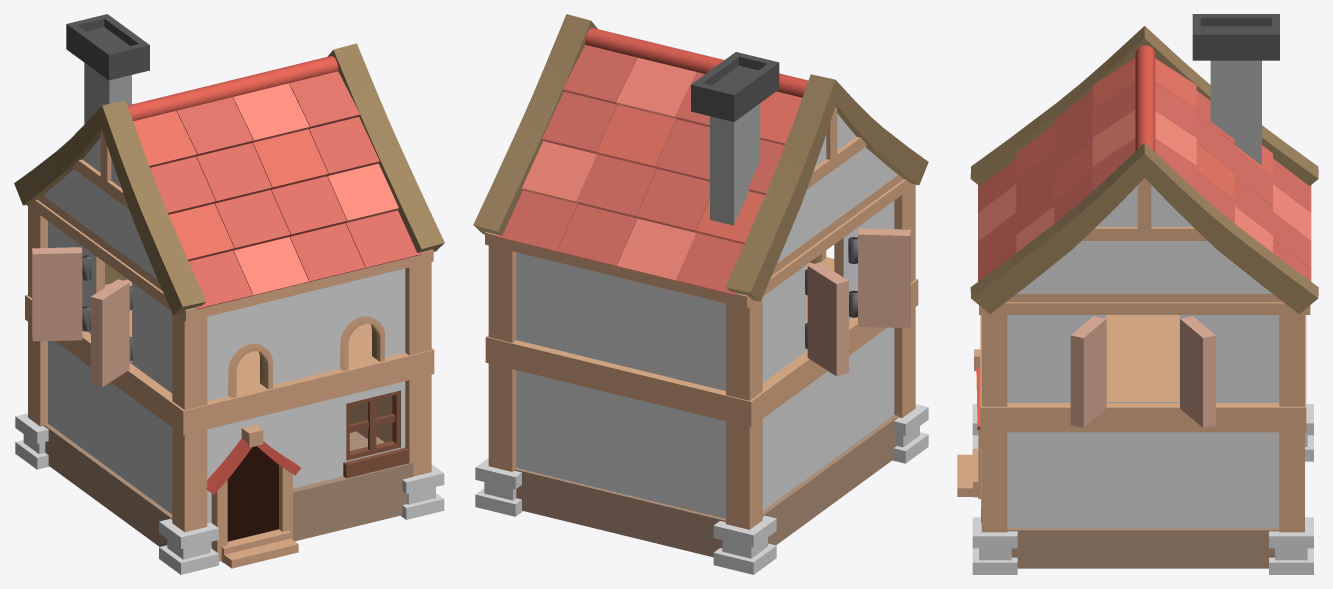
File: 마을집1그룹.fbx
The picture shows the model from 3 angles, left to right: view 1: azimuth 30°, elevation 25°; view 2: azimuth 150°, elevation 25°; view 3: azimuth 270°, elevation 25°; orthographic projection. The views are drawn at different scales.
Parts seen in each view (by area): view 1: Cube; view 2: Cube; view 3: Cube.
Boxes of the visible parts, bbox=[...] form: Cube: bbox=[14, 14, 444, 574]; Cube: bbox=[473, 14, 928, 574]; Cube: bbox=[957, 14, 1318, 574].
Bounding box in the file's own units: 2768 × 3412 × 2504.
